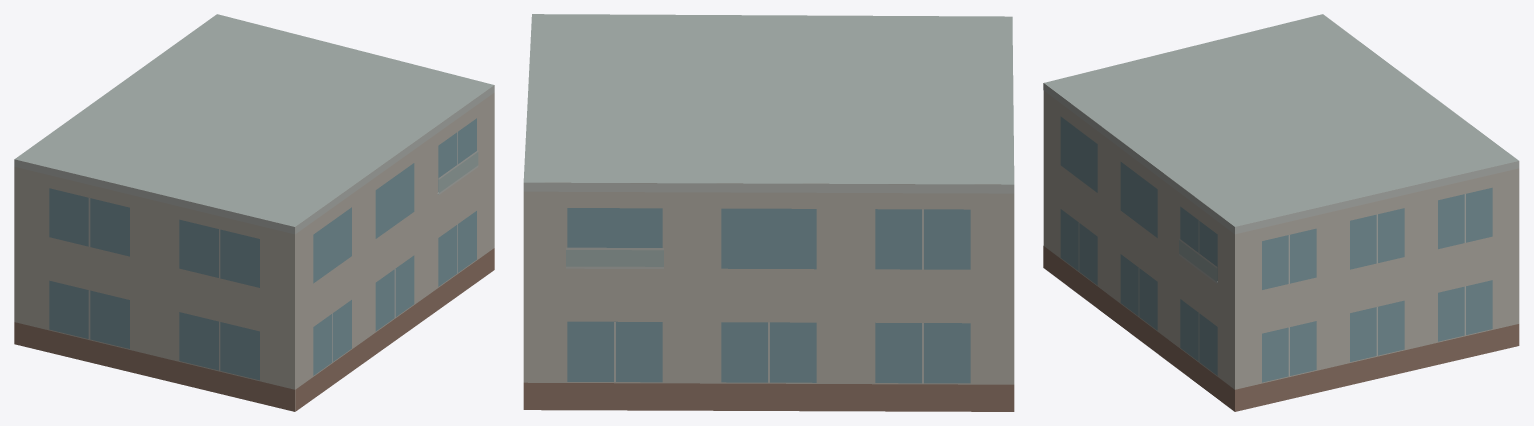
Rendered from survey-upis-32711874.glb.
The picture shows the model from 3 angles, left to right: view 1: azimuth 30°, elevation 25°; view 2: azimuth 150°, elevation 25°; view 3: azimuth 270°, elevation 25°; orthographic projection. The views are drawn at different scales.
Parts seen in each view (by area): view 1: survey-upis-32711874.tmp; view 2: survey-upis-32711874.tmp; view 3: survey-upis-32711874.tmp.
Part boxes in pixels (x1,y1,x2,y2): survey-upis-32711874.tmp: [14, 14, 494, 411]; survey-upis-32711874.tmp: [523, 14, 1014, 411]; survey-upis-32711874.tmp: [1043, 14, 1519, 411].
Bounding box in the file's own units: 15.07 × 6.1 × 14.23.
